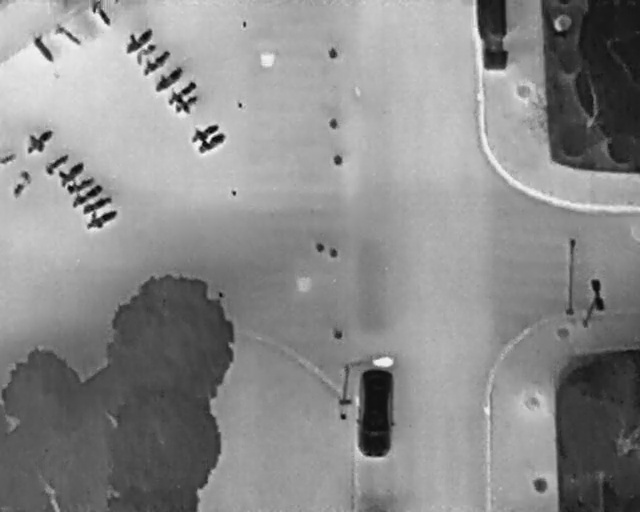Bicycle: (19, 121, 60, 160), (118, 20, 158, 57), (79, 201, 122, 234), (148, 62, 187, 96), (135, 45, 174, 79), (53, 154, 89, 190), (185, 117, 223, 148), (162, 76, 199, 107), (68, 180, 105, 211), (28, 31, 60, 66), (6, 166, 37, 201), (194, 128, 230, 158), (170, 89, 204, 119), (78, 192, 117, 218), (129, 39, 162, 69), (51, 20, 86, 47), (62, 170, 99, 195), (40, 149, 72, 177), (88, 0, 118, 29), (0, 152, 17, 164)
Car: (355, 366, 395, 459)
